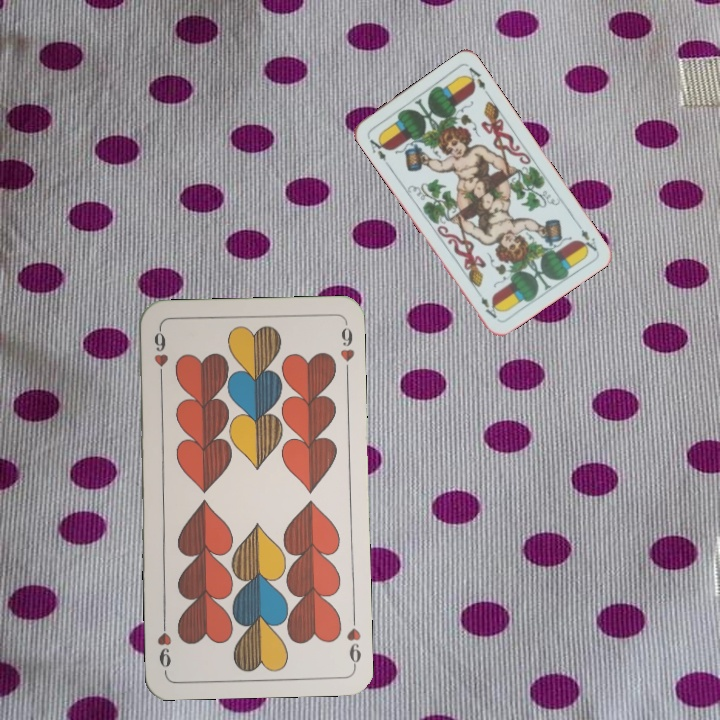EA: (363, 133, 392, 168), (576, 225, 600, 255)
H9: (150, 325, 171, 384), (343, 610, 363, 669)
